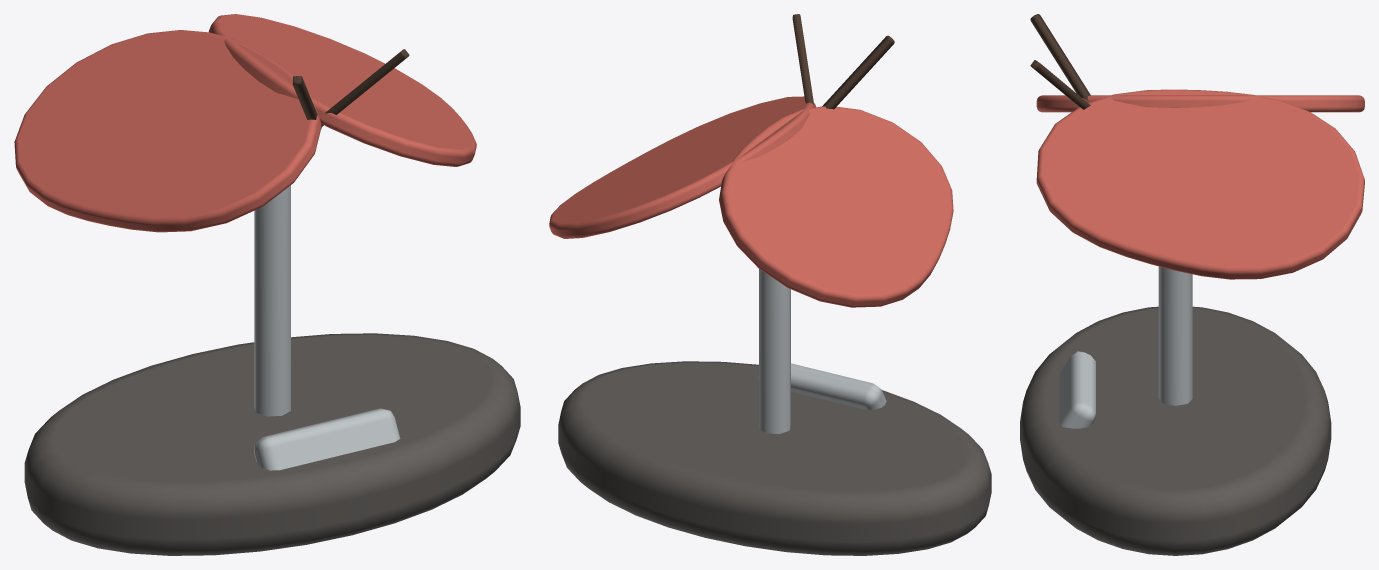
Rendered from butterfly_model.glb.
3 views of the same model, side by side, from view 1: azimuth 30°, elevation 25°; view 2: azimuth 150°, elevation 25°; view 3: azimuth 270°, elevation 25° (orthographic). The views are drawn at different scales.
Visible parts, largest first — view 1: butterfly_model_mesh; view 2: butterfly_model_mesh; view 3: butterfly_model_mesh.
Boxes of the visible parts, bbox=[...] form: butterfly_model_mesh: bbox=[14, 14, 520, 555]; butterfly_model_mesh: bbox=[549, 14, 991, 555]; butterfly_model_mesh: bbox=[1020, 14, 1364, 555].
Size of the model in its own units: 0.34 by 0.3315 by 0.2439.
